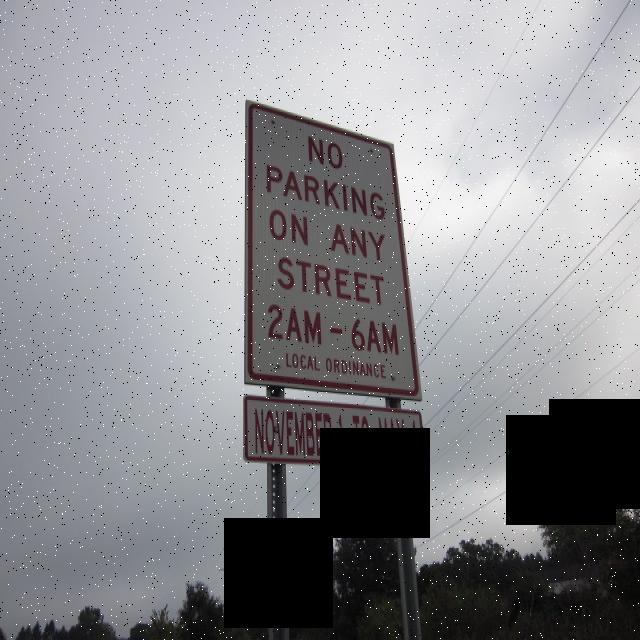regulatory: (238, 94, 424, 402)
